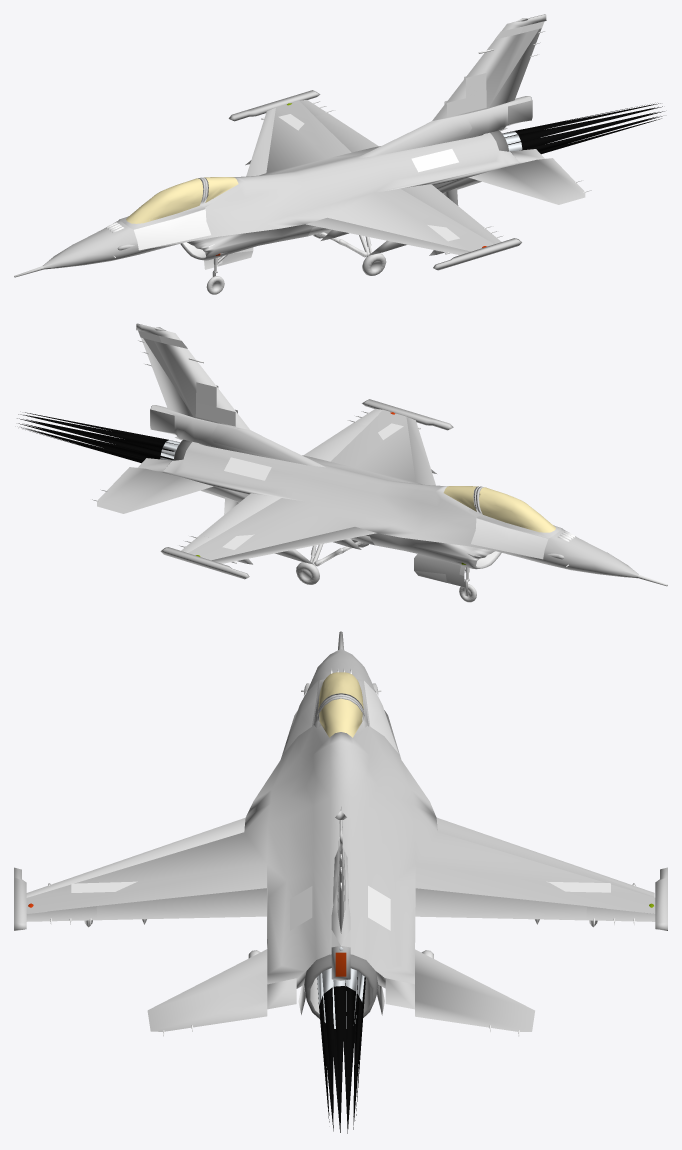
3 views of the same model, one above another, from view 1: azimuth 30°, elevation 25°; view 2: azimuth 150°, elevation 25°; view 3: azimuth 270°, elevation 25° (orthographic). The views are drawn at different scales.
Parts seen in each view (by area): view 1: RadarDomeTop, ExternalFlame, LeftUpperHorizonTail, Tail, RNLAF_Tailroot, CanopyForwardOutside, LogoPilotRight, USAF_Tailroot, WingTips, LeftUpperLef, LeftUpperFlap, Rudder.003 (+8 smaller); view 2: RadarDomeTop, ExternalFlame, RightUpperHorizonTail, Tail, RNLAF_Tailroot, CanopyForwardOutside, LogoPilotRight, USAF_Tailroot, WingTips, RightUpperLef, RightUpperFlap, LeftUpperLef (+9 smaller); view 3: RadarDomeTop, LeftUpperHorizonTail, RightUpperHorizonTail, ExternalFlame, RightUpperFlap, LeftUpperFlap, LeftUpperLef, RightUpperLef, LogoPilotRight, WingTips, RNLAF_Tailroot, CanopyBackOutside (+8 smaller).
Part boxes in pixels (bbox=[...]): RadarDomeTop: bbox=[14, 100, 519, 277]; ExternalFlame: bbox=[502, 103, 664, 154]; LeftUpperHorizonTail: bbox=[468, 158, 591, 204]; Tail: bbox=[432, 14, 546, 120]; RNLAF_Tailroot: bbox=[401, 96, 532, 151]; CanopyForwardOutside: bbox=[126, 178, 203, 223]; LogoPilotRight: bbox=[119, 209, 210, 250]; USAF_Tailroot: bbox=[357, 115, 510, 158]; WingTips: bbox=[228, 90, 521, 270]; LeftUpperLef: bbox=[306, 217, 470, 254]; LeftUpperFlap: bbox=[401, 184, 482, 228]; Rudder.003: bbox=[489, 28, 544, 108]; RadarDomeTop: bbox=[163, 410, 667, 586]; ExternalFlame: bbox=[17, 412, 180, 463]; RightUpperHorizonTail: bbox=[92, 467, 213, 513]; Tail: bbox=[136, 323, 249, 429]; RNLAF_Tailroot: bbox=[150, 405, 282, 460]; CanopyForwardOutside: bbox=[479, 487, 555, 532]; LogoPilotRight: bbox=[471, 518, 562, 559]; USAF_Tailroot: bbox=[173, 424, 325, 467]; WingTips: bbox=[160, 399, 453, 579]; RightUpperLef: bbox=[211, 527, 376, 563]; RightUpperFlap: bbox=[199, 493, 280, 538]; LeftUpperLef: bbox=[406, 416, 435, 485]; RadarDomeTop: bbox=[26, 631, 655, 992]; LeftUpperHorizonTail: bbox=[147, 949, 267, 1036]; RightUpperHorizonTail: bbox=[415, 949, 534, 1036]; ExternalFlame: bbox=[317, 968, 365, 1133]; RightUpperFlap: bbox=[415, 888, 586, 920]; LeftUpperFlap: bbox=[96, 888, 266, 920]; LeftUpperLef: bbox=[26, 817, 245, 897]; RightUpperLef: bbox=[436, 817, 654, 897]; LogoPilotRight: bbox=[284, 681, 398, 753]; WingTips: bbox=[14, 867, 667, 930]; RNLAF_Tailroot: bbox=[331, 865, 350, 980]; CanopyBackOutside: bbox=[319, 698, 362, 737].
Size of what is drawn, in the model's own units: 17.49 by 5.11 by 9.59.
